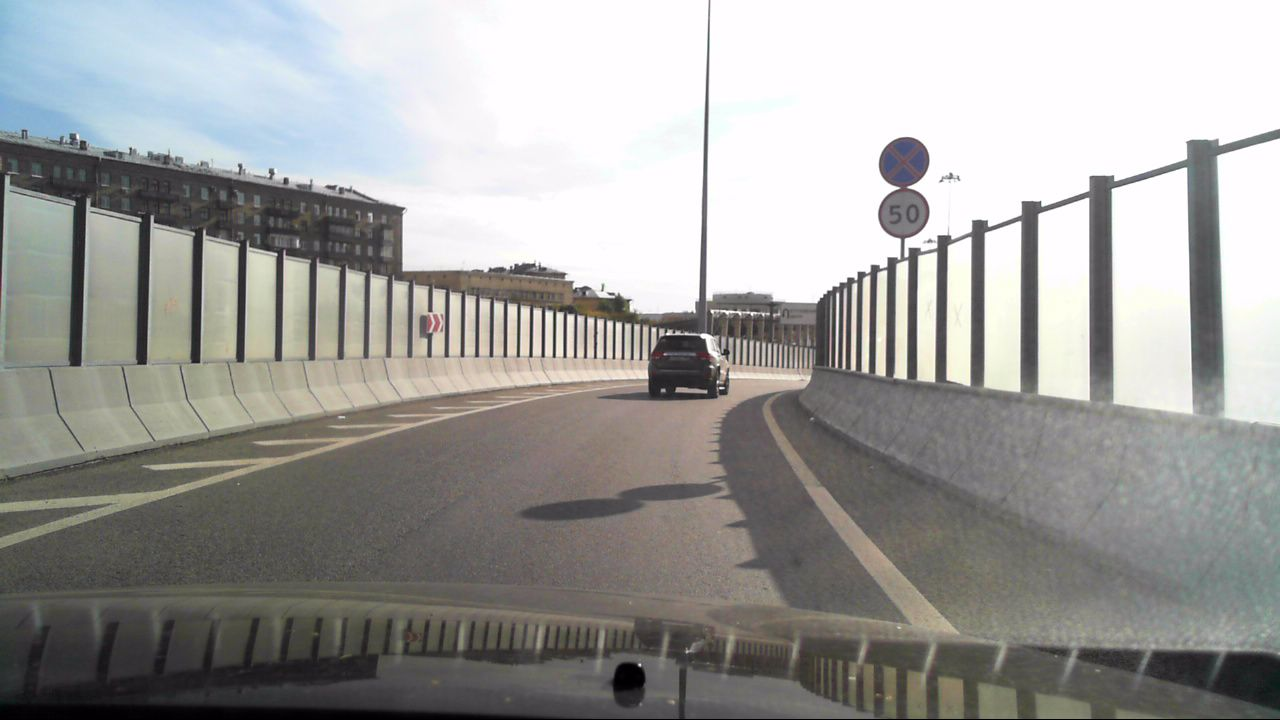No Parking: (877, 136, 930, 188)
